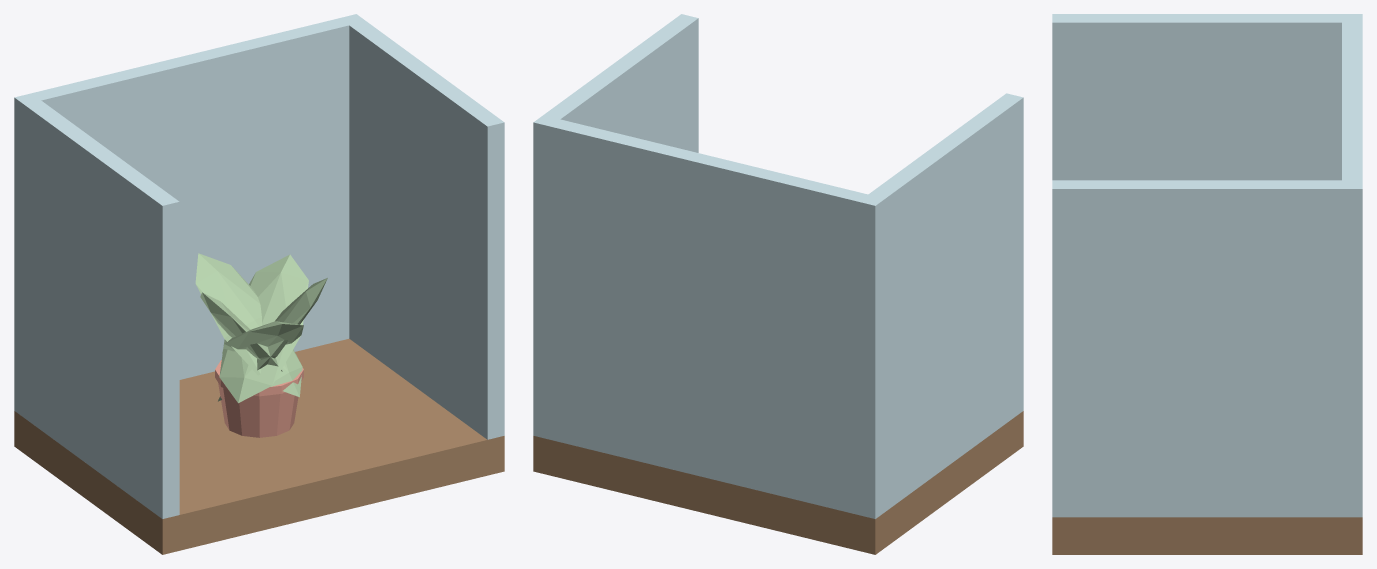
The model's file is cozy-home-interiors-terrarium-3c032ae8.glb.
3 renders of one model, left to right at view 1: azimuth 30°, elevation 25°; view 2: azimuth 150°, elevation 25°; view 3: azimuth 270°, elevation 25°, orthographic. The views are drawn at different scales.
Visible parts, largest first — view 1: terrarium; view 2: terrarium; view 3: terrarium.
Boxes of the visible parts, x1,y1,x2,y2 form: terrarium: [14, 14, 504, 554]; terrarium: [533, 14, 1023, 554]; terrarium: [1052, 14, 1362, 554].
Bounding box in the file's own units: 0.4 × 0.39 × 0.3.
